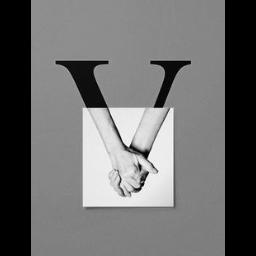v: (50, 48, 190, 202)
